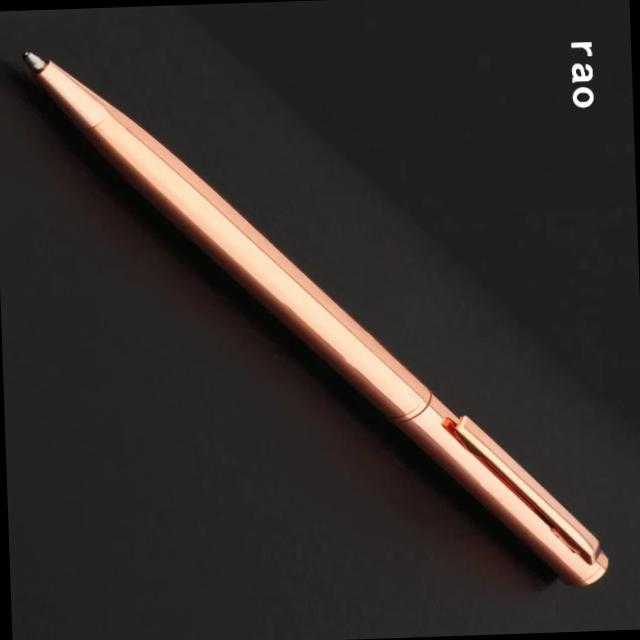pen: (0, 23, 640, 626)
